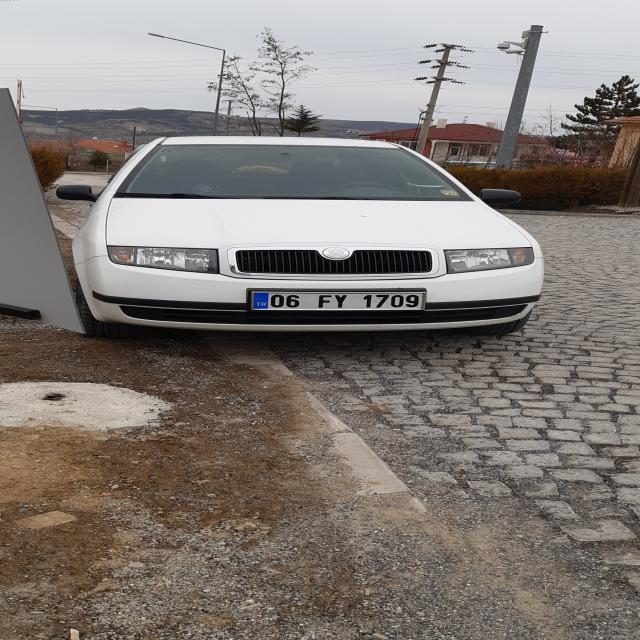plate: (251, 292, 425, 309)
